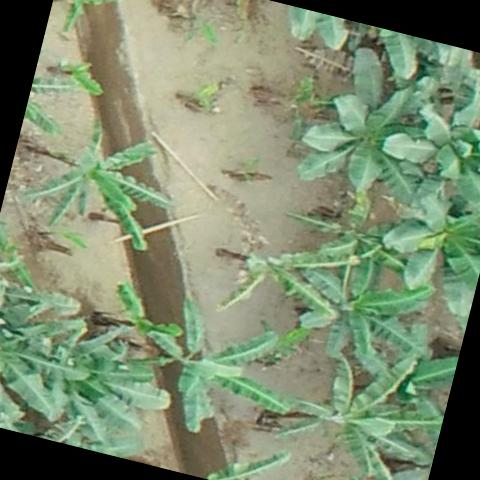Banana-plant: (0, 100, 182, 266), (121, 286, 303, 452), (262, 333, 454, 480), (269, 233, 438, 373), (284, 62, 442, 210), (16, 323, 174, 464), (189, 222, 340, 332), (367, 166, 480, 309), (376, 79, 480, 206), (73, 270, 195, 362), (0, 271, 67, 433), (28, 44, 112, 117), (46, 0, 142, 51)
